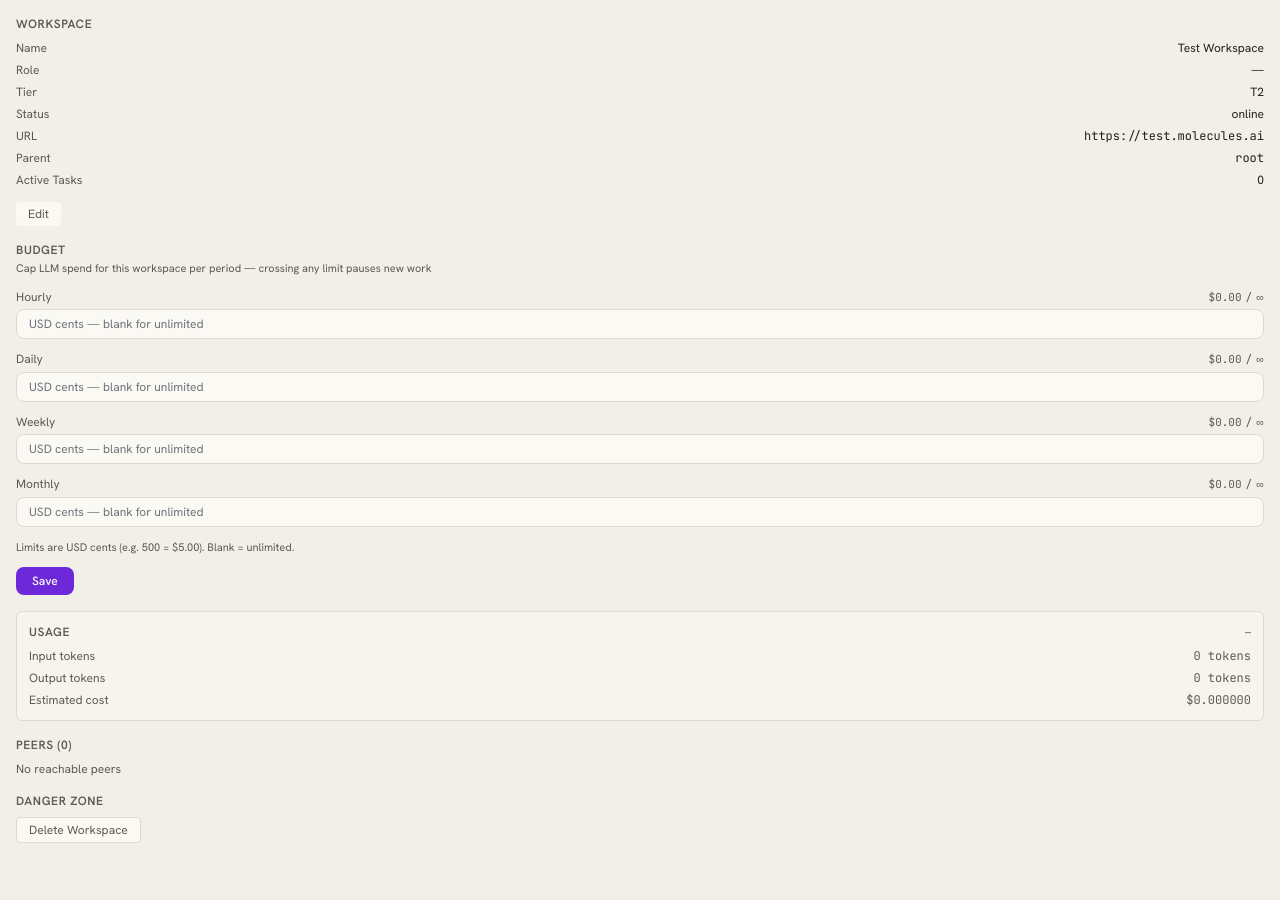
Test: DetailsTab — delete workflow › clicking Delete shows confirm dialog
The width and height of the screenshot is (1280, 900).
Click the button "Delete Workspace".
click(78, 830)  # box 16,817 -> 141,843
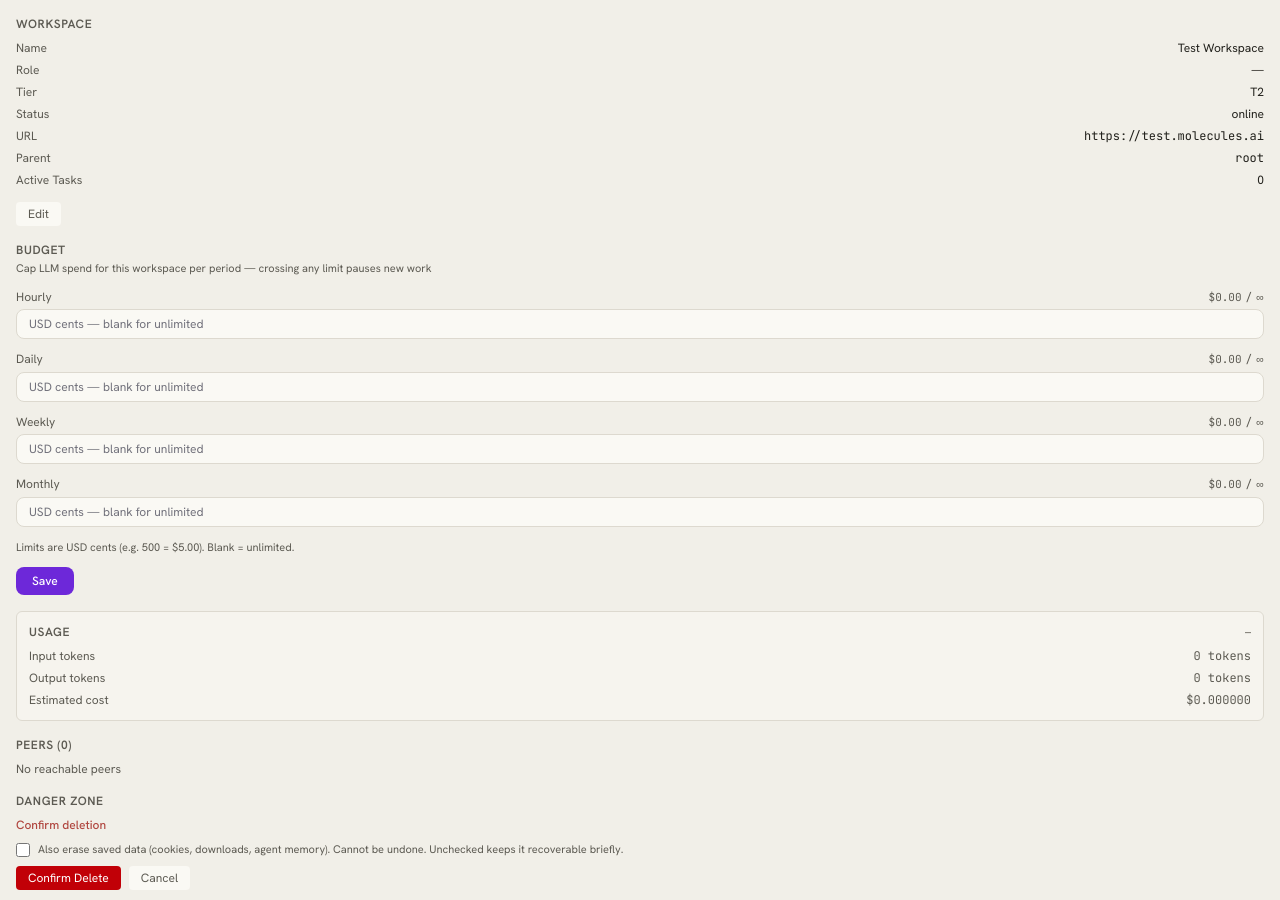
expect the dialog is shown: met, box 16,817 -> 623,890
expect the heading "Confirm deletion" is shown: met, box 16,817 -> 106,833
